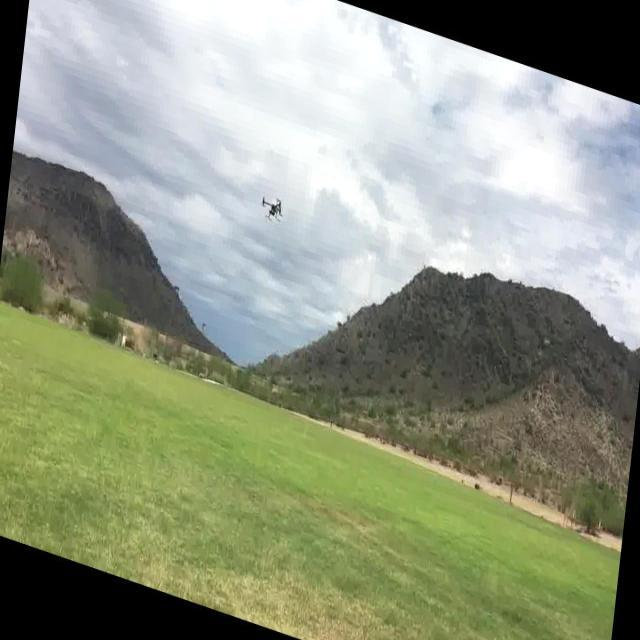drone: (257, 187, 289, 232)
